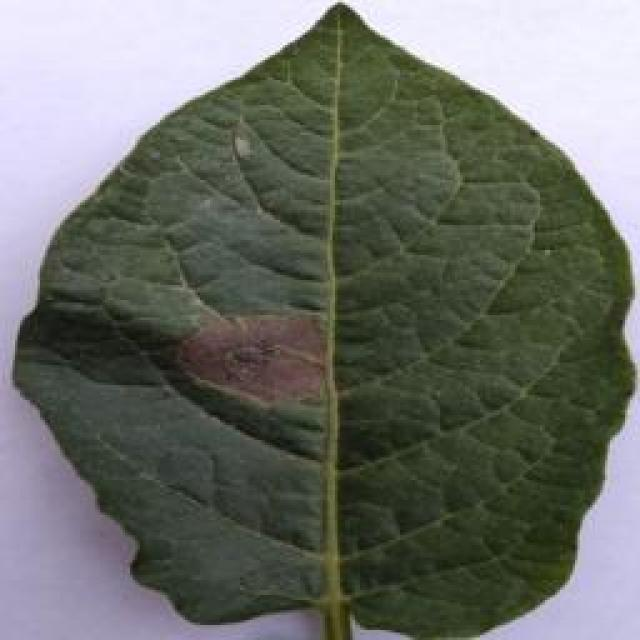Potato_Late_Blight: (2, 8, 633, 631), (395, 3, 640, 149)
